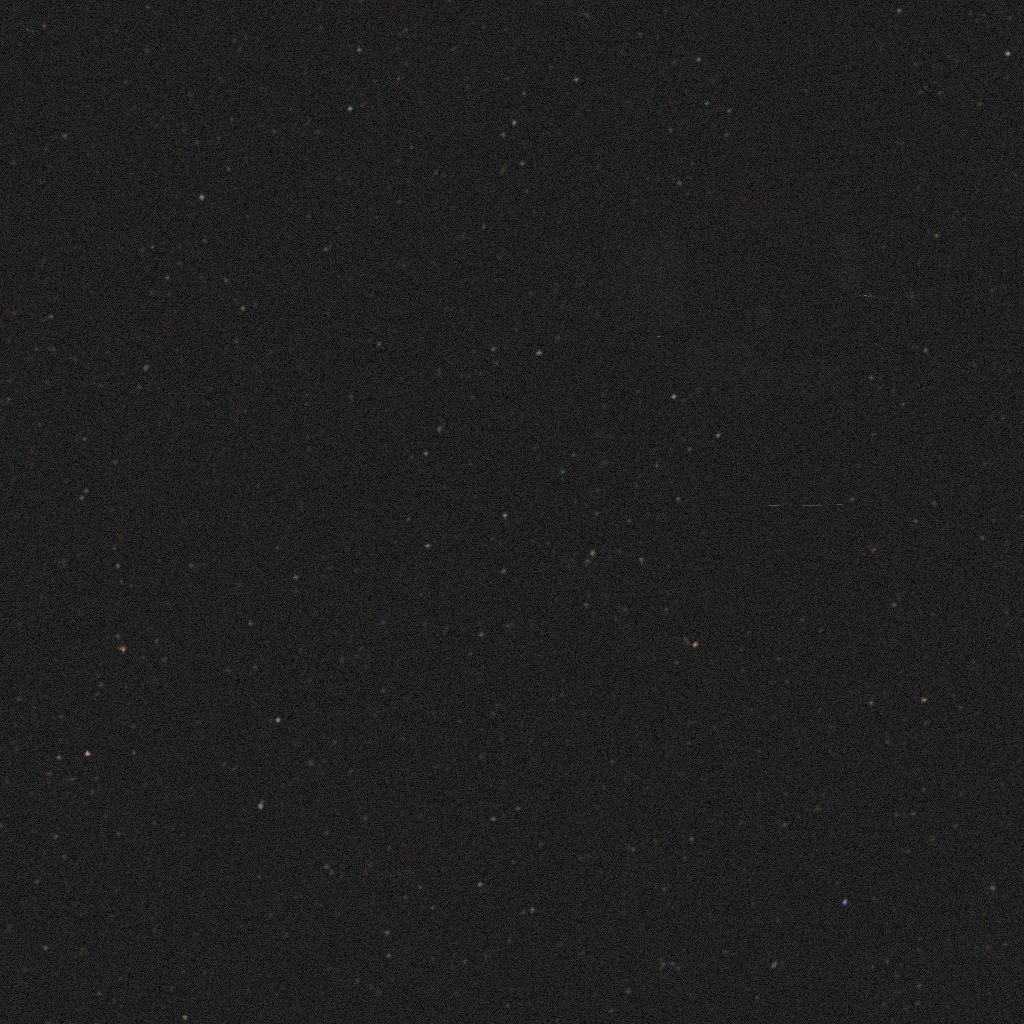soho: (611, 0, 879, 602)
